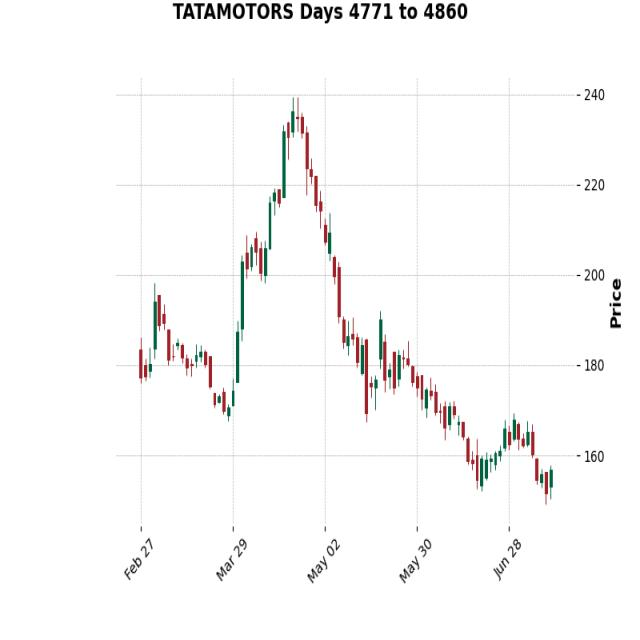Head and Shoulder: (226, 74, 404, 338)
